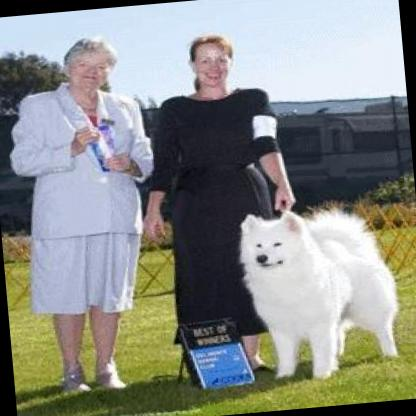Samoyed: (228, 192, 408, 388)
